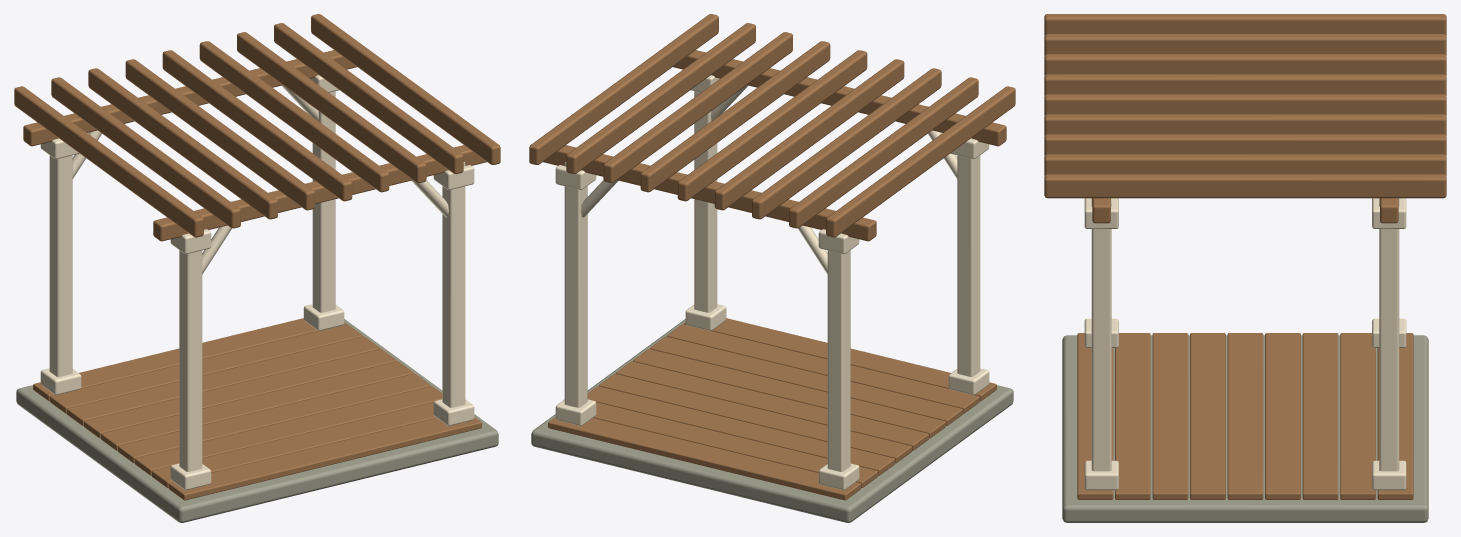
Rendered from almanac-gardens-garden-pergola-36e88395.glb.
3 renders of one model, left to right at view 1: azimuth 30°, elevation 25°; view 2: azimuth 150°, elevation 25°; view 3: azimuth 270°, elevation 25°, orthographic. The views are drawn at different scales.
Parts seen in each view (by area): view 1: garden-pergola-oak, garden-pergola-ivory, garden-pergola-stone; view 2: garden-pergola-oak, garden-pergola-ivory, garden-pergola-stone; view 3: garden-pergola-oak, garden-pergola-stone, garden-pergola-ivory.
Boxes of the visible parts, bbox=[...] form: garden-pergola-oak: bbox=[14, 14, 500, 500]; garden-pergola-ivory: bbox=[40, 75, 474, 489]; garden-pergola-stone: bbox=[16, 319, 498, 522]; garden-pergola-oak: bbox=[529, 14, 1015, 500]; garden-pergola-ivory: bbox=[555, 75, 989, 489]; garden-pergola-stone: bbox=[531, 319, 1013, 522]; garden-pergola-oak: bbox=[1044, 14, 1446, 499]; garden-pergola-stone: bbox=[1062, 335, 1428, 522]; garden-pergola-ivory: bbox=[1084, 198, 1406, 490].
Size of the model in its own units: 2.95 by 2.63 by 2.8.
